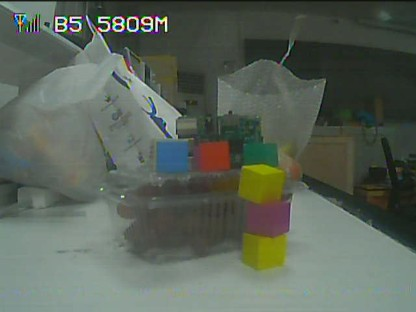b: (157, 140, 188, 171)
g: (245, 145, 278, 166)
r: (199, 144, 228, 169)
